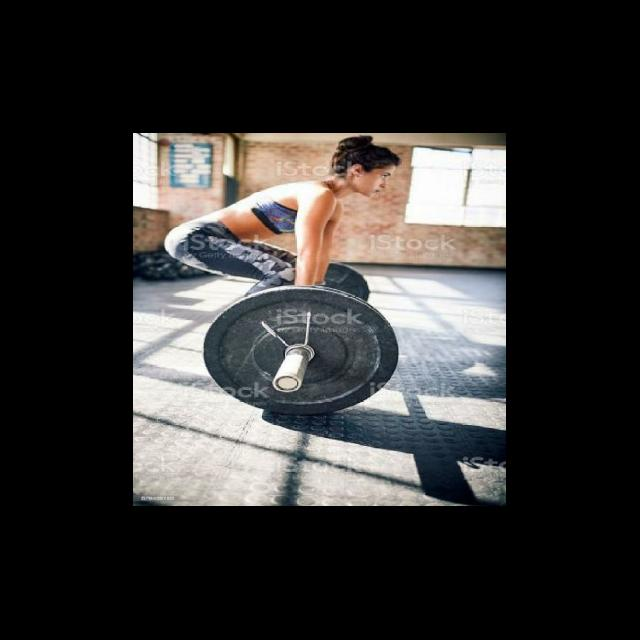barbell: (196, 281, 405, 422)
